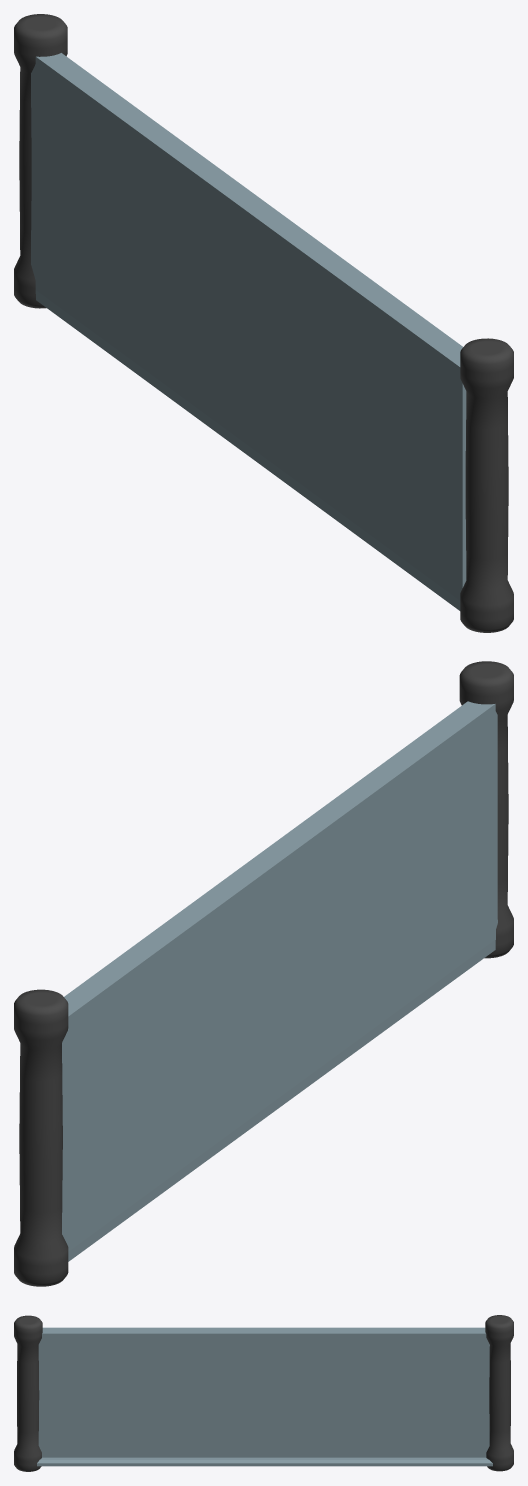
Rendered from big wall line 2 pillars.fbx.
3 renders of one model, top to bottom at view 1: azimuth 30°, elevation 25°; view 2: azimuth 150°, elevation 25°; view 3: azimuth 270°, elevation 25°, orthographic. The views are drawn at different scales.
Visible parts, largest first — view 1: line_wall_big_2_pillar; view 2: line_wall_big_2_pillar; view 3: line_wall_big_2_pillar.
Part boxes in pixels (<box>): line_wall_big_2_pillar: <box>14,14,513,632</box>; line_wall_big_2_pillar: <box>14,661,513,1286</box>; line_wall_big_2_pillar: <box>14,1315,513,1471</box>.
Size of the model in its own units: 164 by 881 by 2735.
